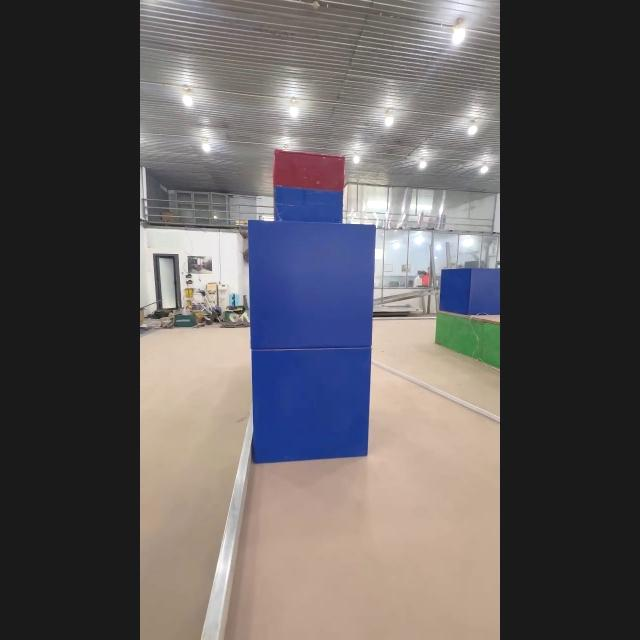earth_block: (246, 220, 380, 350), (248, 348, 376, 465)
sky_block: (265, 149, 351, 224)
